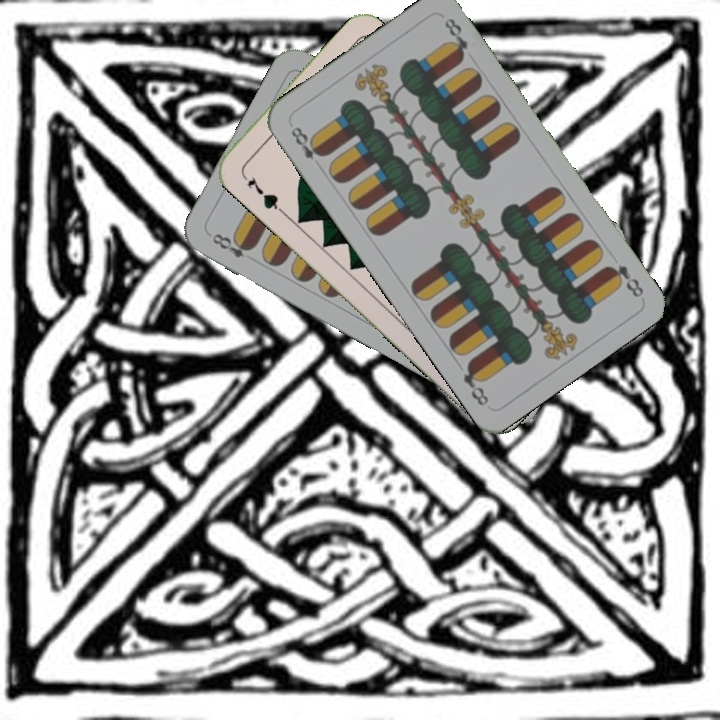E8: (602, 261, 647, 300), (287, 122, 328, 162), (208, 229, 256, 261)
G7: (238, 170, 285, 215)
